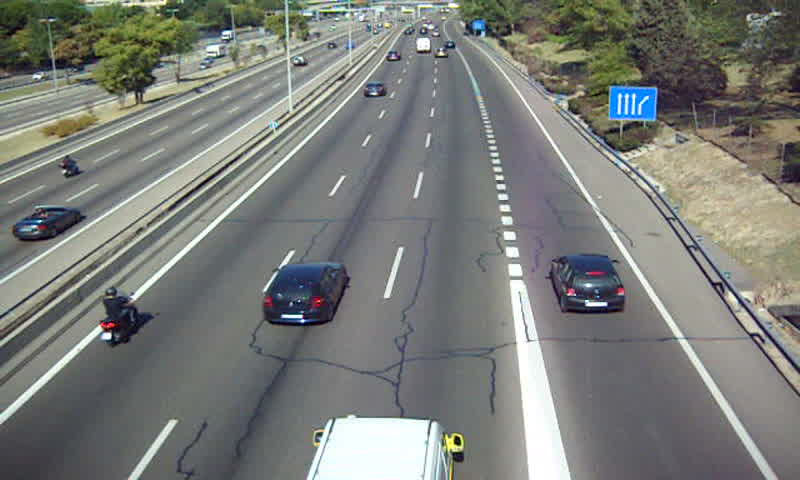car: (262, 260, 348, 327), (553, 255, 626, 311), (363, 82, 387, 99)
motorcycle: (99, 286, 139, 348)
